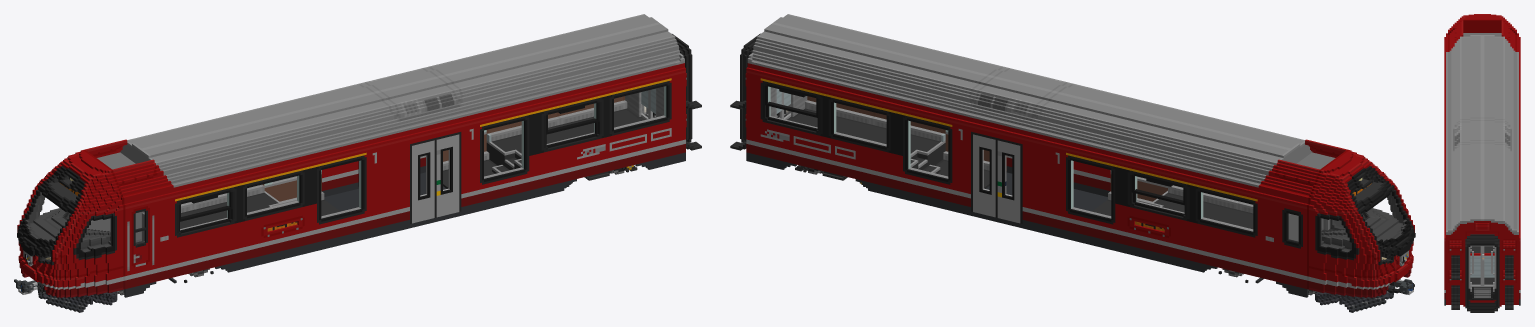
File: rhb_at318.obj
The picture shows the model from 3 angles, left to right: view 1: azimuth 30°, elevation 25°; view 2: azimuth 150°, elevation 25°; view 3: azimuth 270°, elevation 25°; orthographic projection. The views are drawn at different scales.
Visible parts, largest first — view 1: FRAME_1, FRAME_2, FRAME_FRONT, INTERIOR_LCG_il_LINVERT_2, INTERIOR_LCG_il_LINVERT_1, FRAME_AC, INTERIOR_LCG_cab1, DOOR_12_TL_0.1875_Z_TL_0.625_X_CG_dl_EXTERNAL, DOOR_11_TL_0.1875_Z_TL_-0.625_X_CG_dl_EXTERNAL, DOOR_1_EXTERNAL, WINDOW_3_TL_-0.375_Y, WINDOW_1_TL_-0.3125_Y; view 2: FRAME_1, FRAME_2, FRAME_FRONT, INTERIOR_LCG_il_LINVERT_2, INTERIOR_LCG_il_LINVERT_1, FRAME_AC, INTERIOR_LCG_cab1, DOOR_21_TL_-0.1875_Z_TL_0.625_X_CG_dr_EXTERNAL, DOOR_22_TL_-0.1875_Z_TL_-0.625_X_CG_dr_EXTERNAL, WINDOW_2_TL_-0.3125_Y, WINDOW_4_TL_-0.375_Y; view 3: FRAME_2, FRAME_1, FRAME_AC, INTERIOR_LCG_il_LINVERT_2, FRAME_FRONT, DOOR_103_TL_-0.375_Z_INTERIOR_LCG_il_LINVERT_CG_d2, DOOR_104_TL_0.375_Z_INTERIOR_LINVERT_LCG_il_CG_d2.
Boxes of the visible parts, x1,y1,x2,y2 form: FRAME_1: (85, 84, 397, 297); FRAME_2: (346, 14, 701, 231); FRAME_FRONT: (17, 149, 125, 312); INTERIOR_LCG_il_LINVERT_2: (443, 86, 666, 188); INTERIOR_LCG_il_LINVERT_1: (143, 160, 361, 230); FRAME_AC: (364, 68, 459, 121); INTERIOR_LCG_cab1: (25, 192, 144, 252); DOOR_12_TL_0.1875_Z_TL_0.625_X_CG_dl_EXTERNAL: (434, 132, 461, 217); DOOR_11_TL_0.1875_Z_TL_-0.625_X_CG_dl_EXTERNAL: (410, 138, 436, 223); DOOR_1_EXTERNAL: (131, 206, 149, 267); WINDOW_3_TL_-0.375_Y: (546, 101, 599, 134); WINDOW_1_TL_-0.3125_Y: (179, 190, 232, 221); FRAME_1: (1035, 84, 1346, 297); FRAME_2: (730, 14, 1085, 231); FRAME_FRONT: (1307, 149, 1415, 312); INTERIOR_LCG_il_LINVERT_2: (768, 86, 1006, 188); INTERIOR_LCG_il_LINVERT_1: (1071, 160, 1253, 231); FRAME_AC: (973, 68, 1067, 121); INTERIOR_LCG_cab1: (1287, 192, 1406, 252); DOOR_21_TL_-0.1875_Z_TL_0.625_X_CG_dr_EXTERNAL: (971, 131, 997, 217); DOOR_22_TL_-0.1875_Z_TL_-0.625_X_CG_dr_EXTERNAL: (995, 138, 1022, 223); WINDOW_2_TL_-0.3125_Y: (1131, 173, 1185, 205); WINDOW_4_TL_-0.375_Y: (765, 84, 818, 117); FRAME_2: (1444, 117, 1520, 312); FRAME_1: (1444, 20, 1520, 135); FRAME_AC: (1453, 120, 1511, 150); INTERIOR_LCG_il_LINVERT_2: (1467, 244, 1497, 300); FRAME_FRONT: (1444, 14, 1520, 39); DOOR_103_TL_-0.375_Z_INTERIOR_LCG_il_LINVERT_CG_d2: (1482, 246, 1494, 286); DOOR_104_TL_0.375_Z_INTERIOR_LINVERT_LCG_il_CG_d2: (1470, 246, 1482, 286).
Bounding box in the file's own units: 20.06 × 3.81 × 2.75.
Materials: 1 (1 with a texture image).
